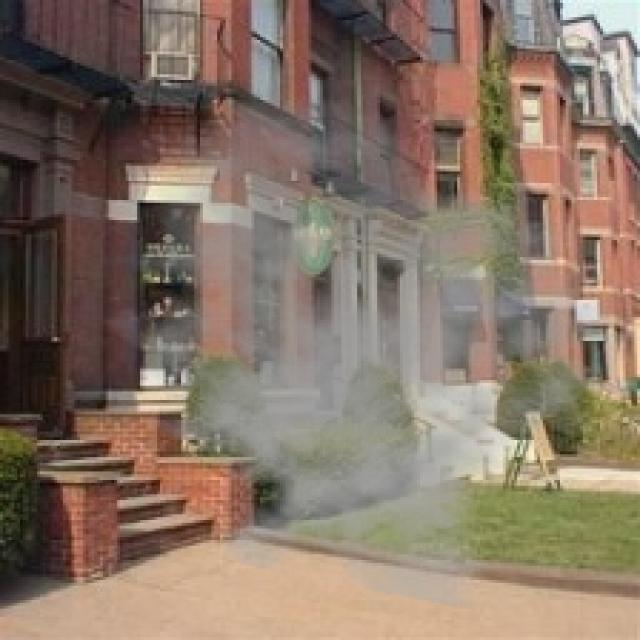smoke: (80, 91, 620, 612)
